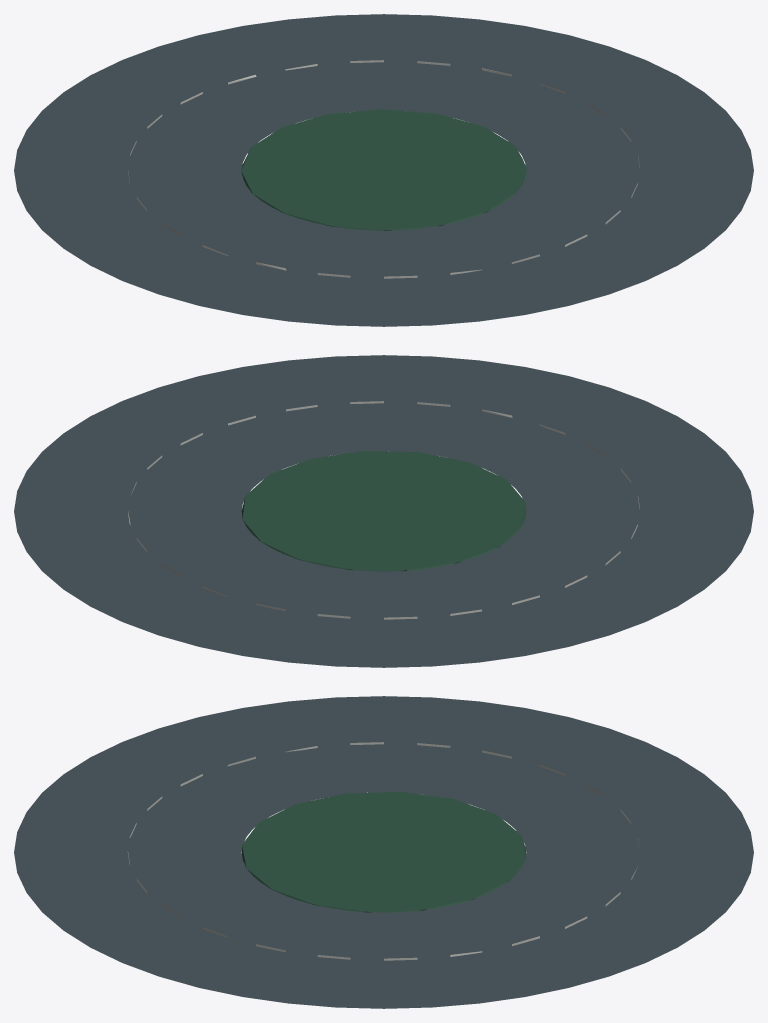
File: landscape-road-roundabout.lod2.glb
3 renders of one model, top to bottom at view 1: azimuth 30°, elevation 25°; view 2: azimuth 150°, elevation 25°; view 3: azimuth 270°, elevation 25°, orthographic.
Visible parts, largest first — view 1: landscape-road-roundabout__body; view 2: landscape-road-roundabout__body; view 3: landscape-road-roundabout__body.
Part boxes in pixels (x1=…): landscape-road-roundabout__body: x1=14, y1=14, x2=753, y2=326; landscape-road-roundabout__body: x1=14, y1=355, x2=753, y2=667; landscape-road-roundabout__body: x1=14, y1=696, x2=753, y2=1008.
Size of the model in its own units: 26 by 0.2027 by 26.
